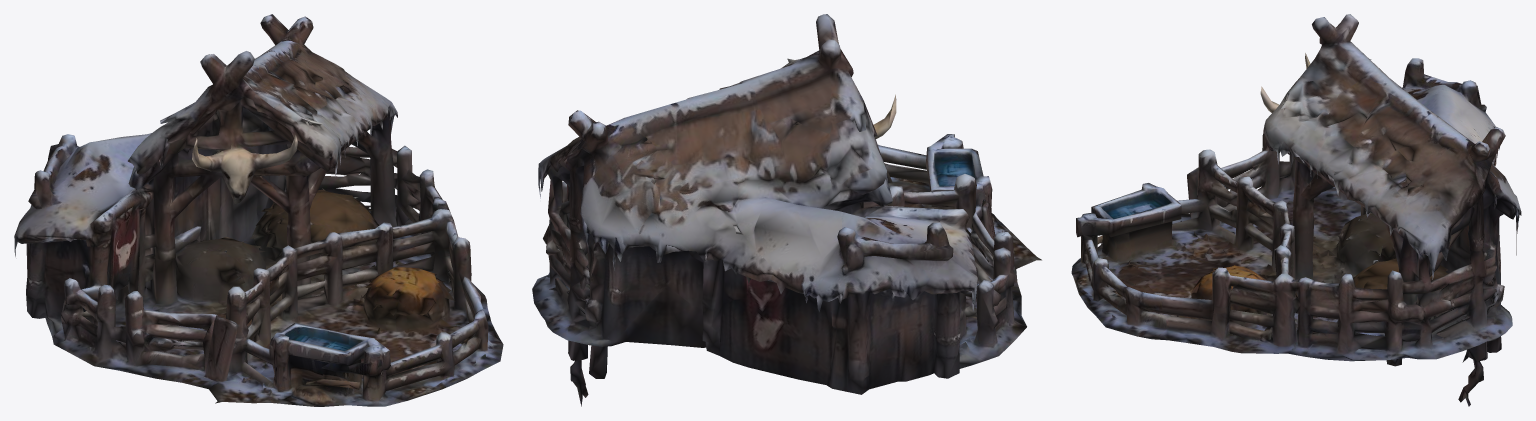
3 views of the same model, side by side, from view 1: azimuth 30°, elevation 25°; view 2: azimuth 150°, elevation 25°; view 3: azimuth 270°, elevation 25° (orthographic). The views are drawn at different scales.
Parts seen in each view (by area): view 1: tripo_node_372d1110-2291-49dd-bfc9-2e614c9172d5; view 2: tripo_node_372d1110-2291-49dd-bfc9-2e614c9172d5; view 3: tripo_node_372d1110-2291-49dd-bfc9-2e614c9172d5.
Part boxes in pixels (box(x1,y1,x2,y2)): tripo_node_372d1110-2291-49dd-bfc9-2e614c9172d5: box(14, 14, 503, 406); tripo_node_372d1110-2291-49dd-bfc9-2e614c9172d5: box(532, 14, 1041, 406); tripo_node_372d1110-2291-49dd-bfc9-2e614c9172d5: box(1071, 14, 1521, 406).
Bounding box in the file's own units: 3.5 × 2.85 × 3.6.
1 material, 1 textured.
